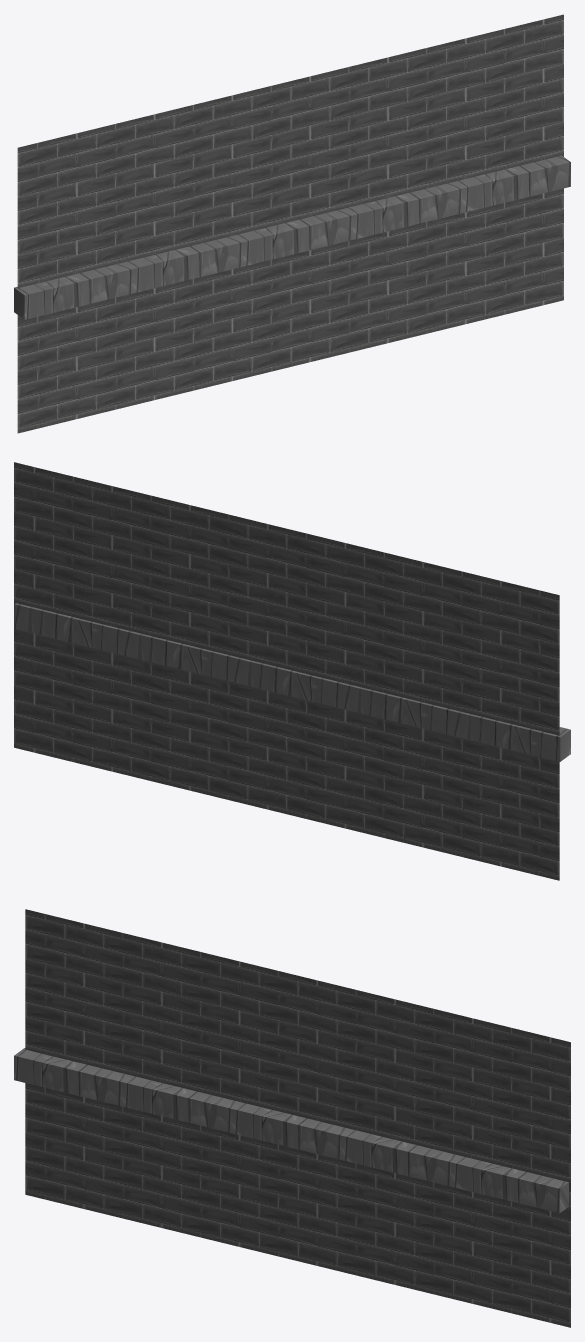
The model's file is Dungeon_Wall 1.fbx.
3 renders of one model, top to bottom at view 1: azimuth 30°, elevation 25°; view 2: azimuth 150°, elevation 25°; view 3: azimuth 330°, elevation 25°, orthographic.
Visible parts, largest first — view 1: Dungeon_Wall; view 2: Dungeon_Wall; view 3: Dungeon_Wall.
Boxes of the visible parts, <box> form: Dungeon_Wall: <box>14,14,570,433</box>; Dungeon_Wall: <box>14,462,570,880</box>; Dungeon_Wall: <box>14,909,570,1327</box>.
Bounding box in the file's own units: 0.2409 × 0.12 × 0.00817.
